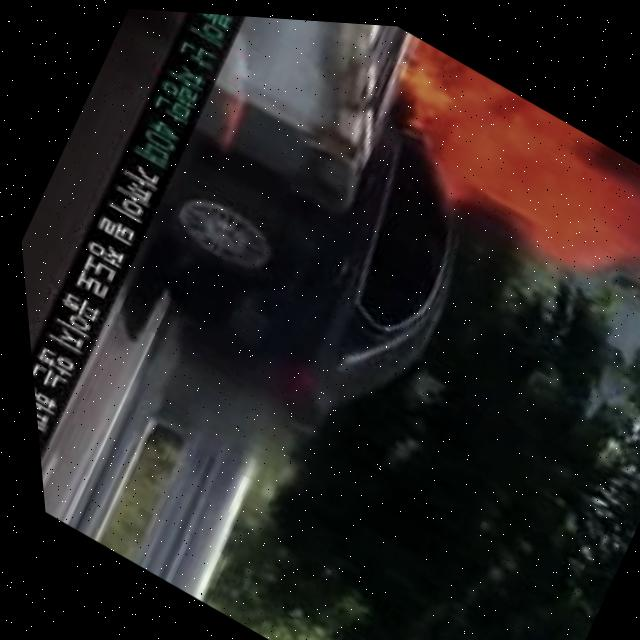Fire: (346, 25, 640, 321)
